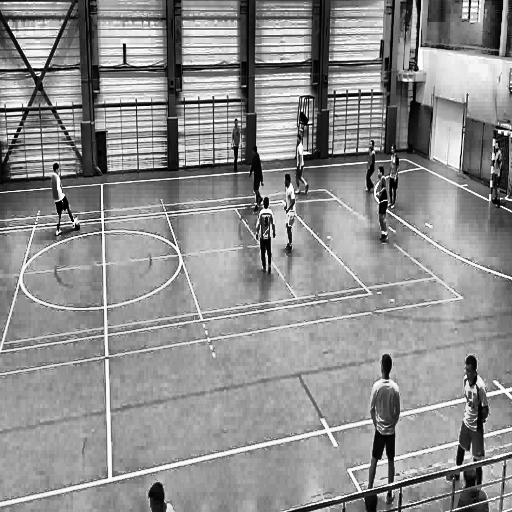ball: (73, 218, 83, 232)
player: (445, 353, 486, 490), (367, 347, 396, 506), (51, 160, 78, 238), (254, 198, 276, 280), (282, 171, 297, 260), (292, 131, 310, 199), (487, 141, 505, 208), (376, 164, 390, 246), (248, 145, 263, 214), (387, 142, 400, 215), (230, 116, 244, 175), (364, 136, 375, 198)
